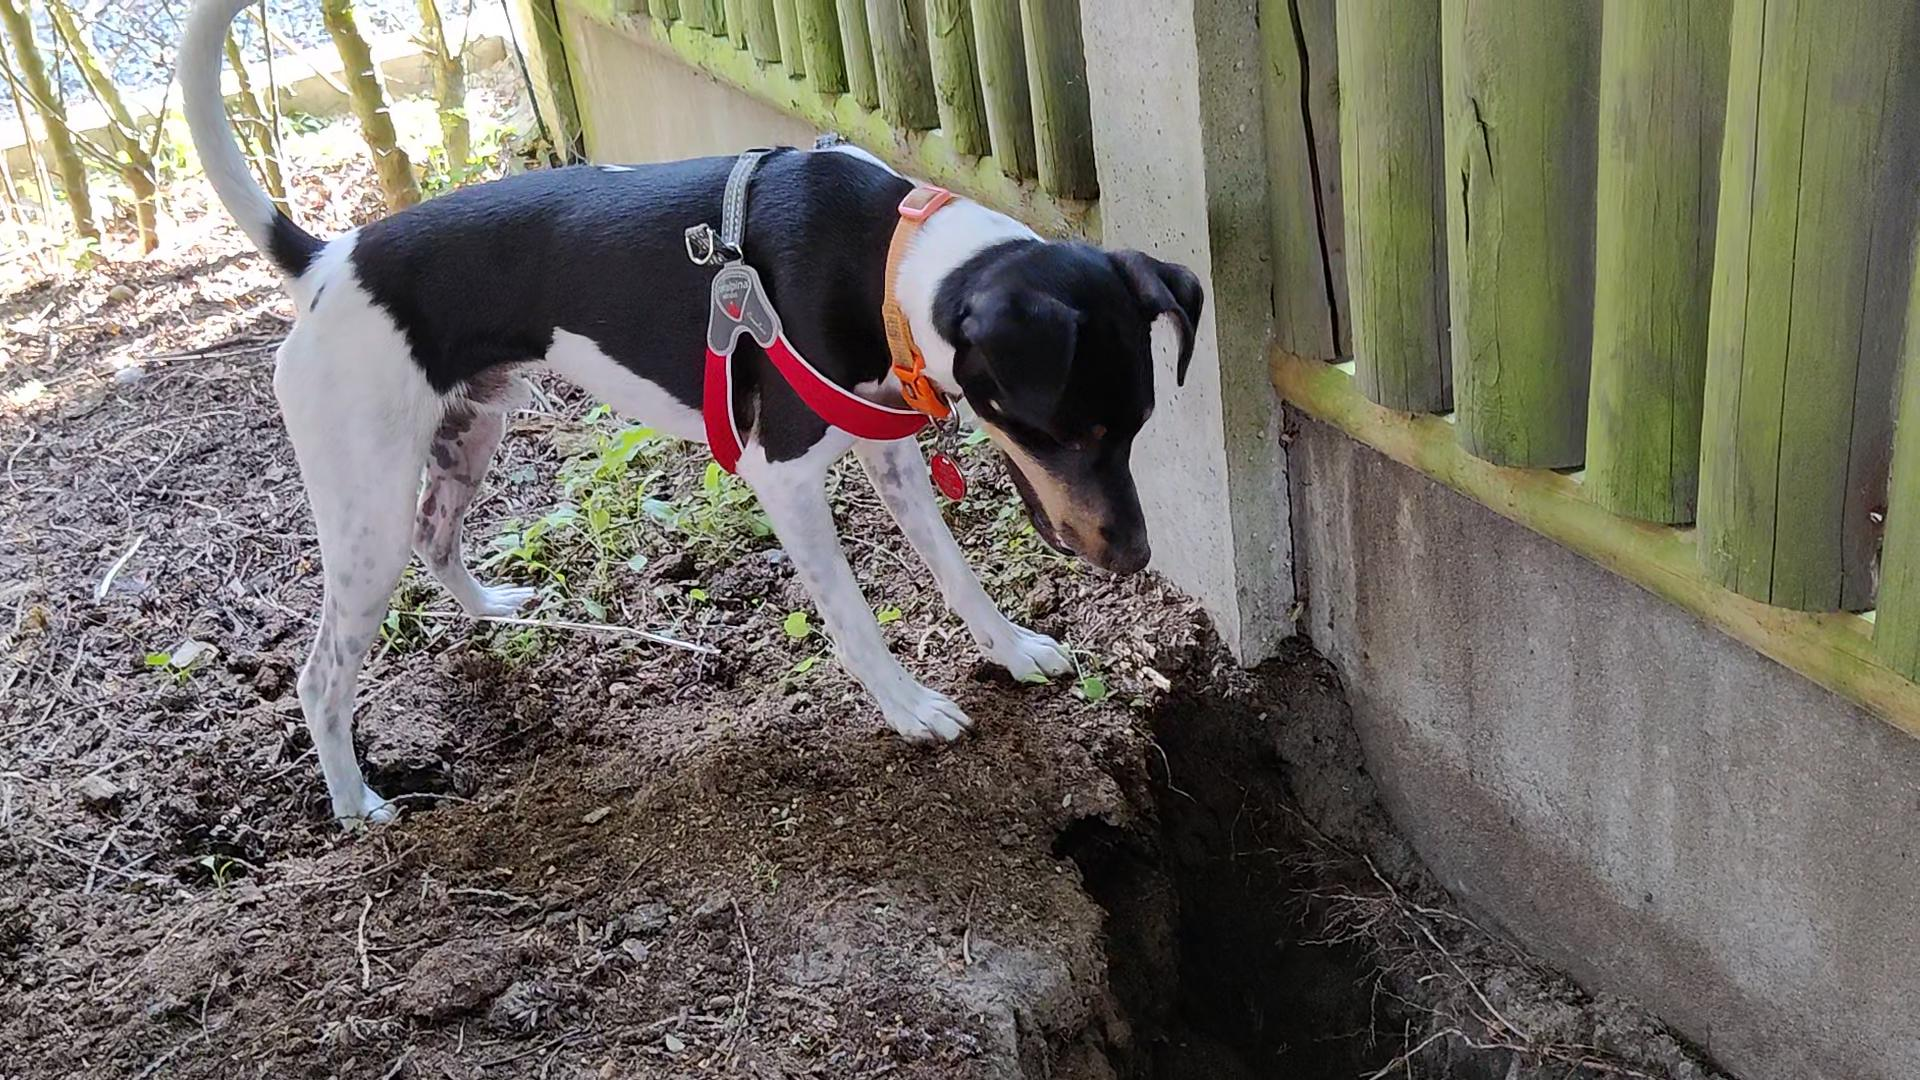Dog: (164, 0, 1213, 864)
